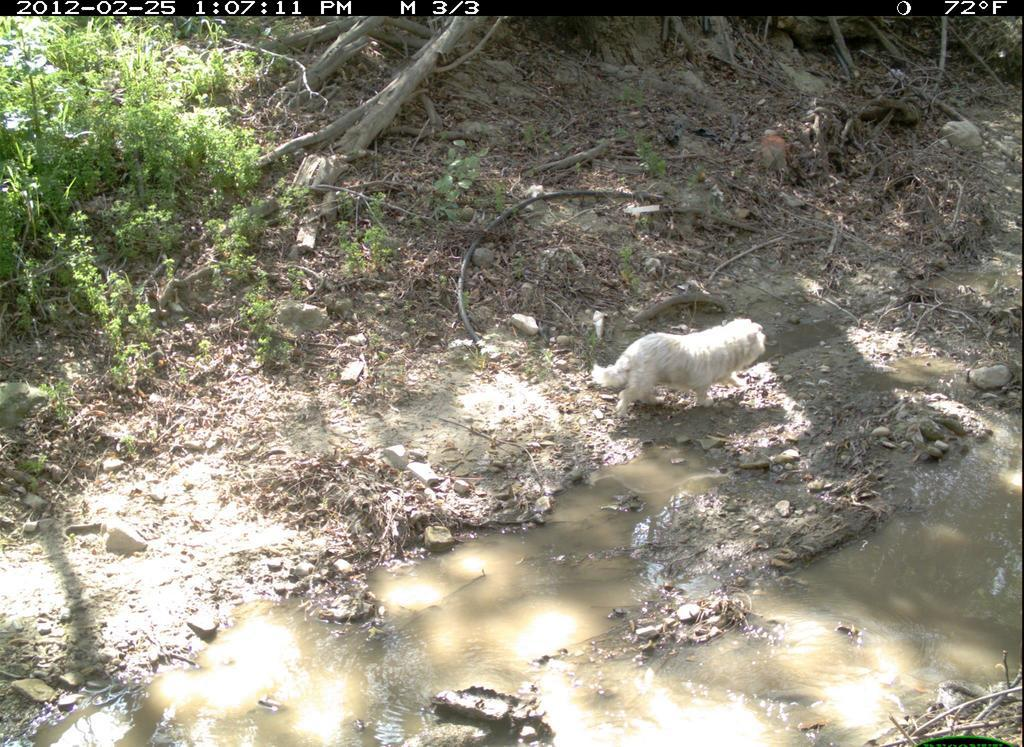dog: (579, 296, 780, 457)
